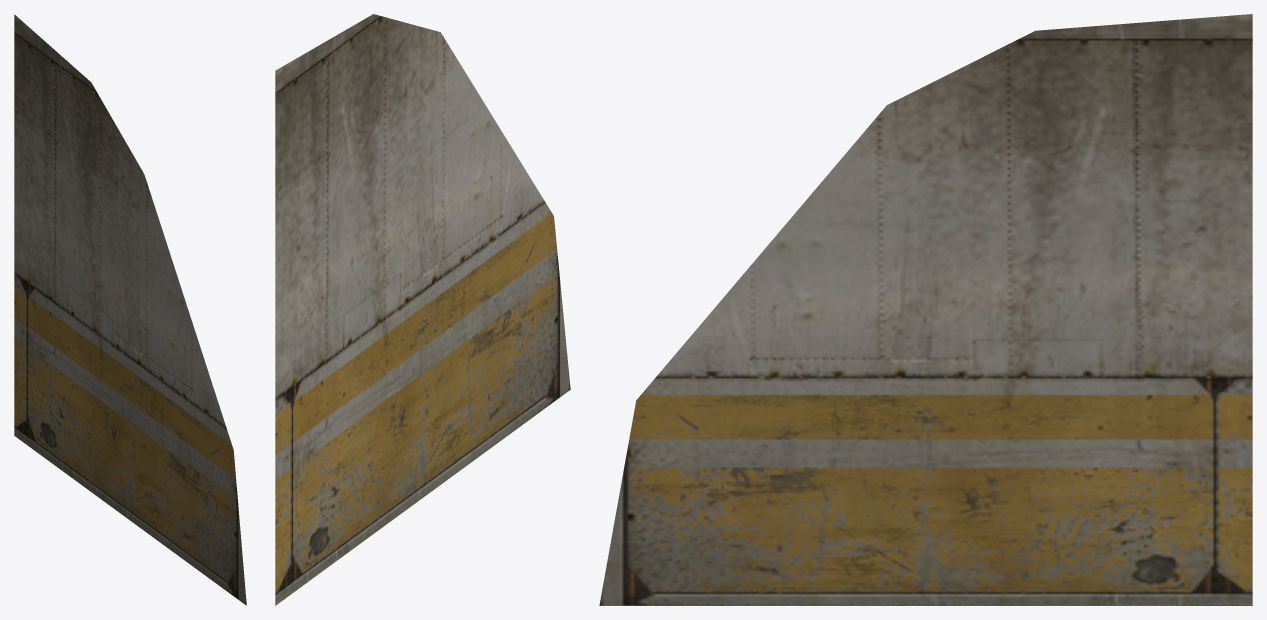
The model's file is Wall_K_Short2mts_07.fbx.
3 renders of one model, left to right at view 1: azimuth 30°, elevation 25°; view 2: azimuth 150°, elevation 25°; view 3: azimuth 270°, elevation 25°, orthographic. The views are drawn at different scales.
Visible parts, largest first — view 1: Wall_F_Short2mts_07; view 2: Wall_F_Short2mts_07; view 3: Wall_F_Short2mts_07.
Boxes of the visible parts, left/top/right/bottom form: Wall_F_Short2mts_07: left=14, top=14, right=246, bottom=605; Wall_F_Short2mts_07: left=275, top=14, right=570, bottom=605; Wall_F_Short2mts_07: left=599, top=14, right=1252, bottom=605.
Bounding box in the file's own units: 0.000105 × 200 × 200.
